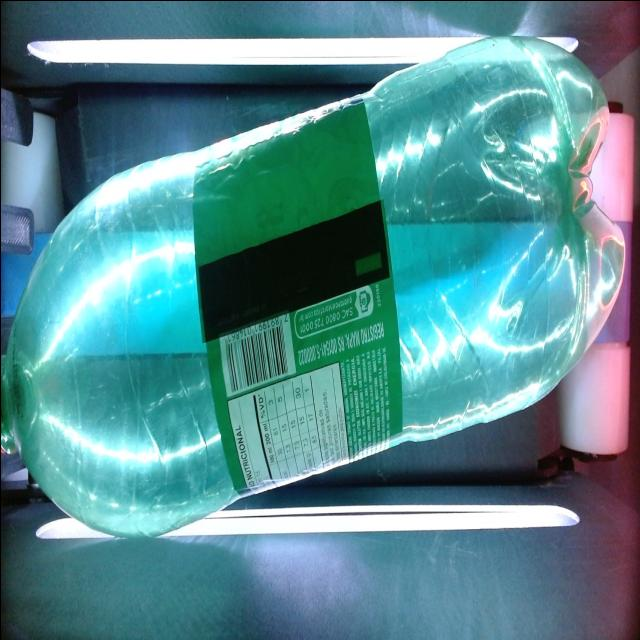bottom: (469, 6, 627, 398)
code: (213, 309, 298, 402)
